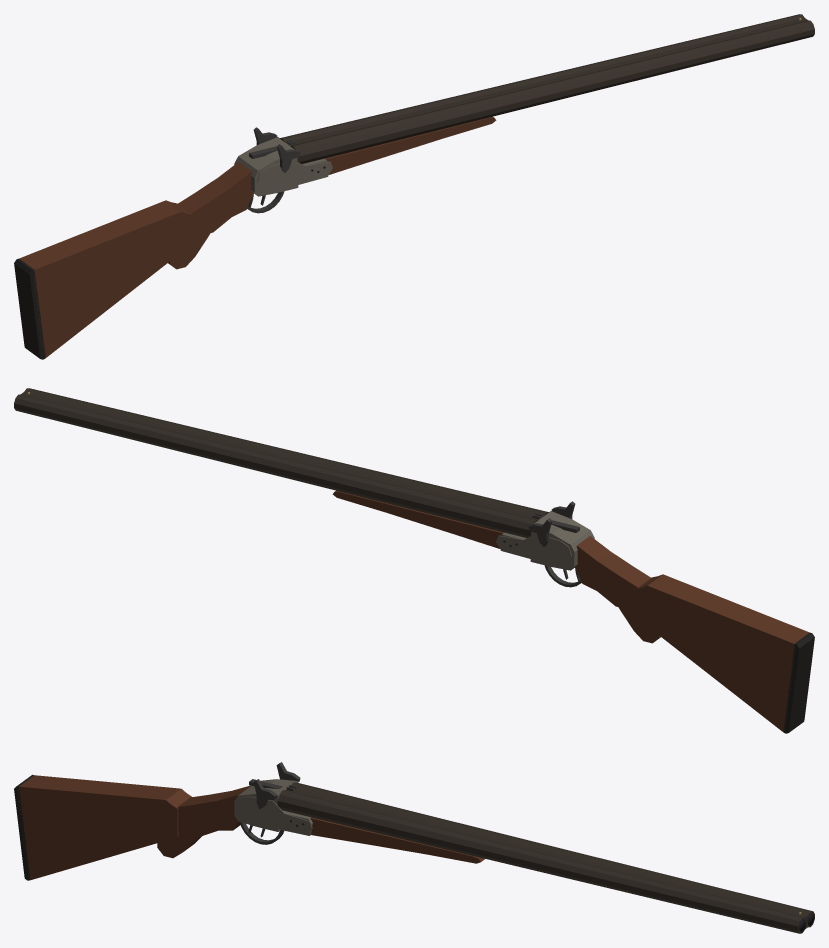
Rendered from colt_1878_shotgun_reference_sightfix.fbx.
3 views of the same model, one above another, from view 1: azimuth 30°, elevation 25°; view 2: azimuth 150°, elevation 25°; view 3: azimuth 330°, elevation 25° (orthographic).
Visible parts, largest first — view 1: barrels, stock_butt, stock_wrist, forend, butt_plate, lock_plate_r, action_body; view 2: barrels, stock_butt, stock_wrist, forend, butt_plate, lock_plate_l, action_body; view 3: barrels, stock_butt, stock_wrist, forend, lock_plate_r, action_body, pistol_grip, butt_plate, hammer_r.
Part boxes in pixels (x1,y1,x2,y2): barrels: [280, 14, 814, 163]; stock_butt: [19, 200, 192, 357]; stock_wrist: [178, 162, 253, 235]; forend: [324, 116, 496, 174]; butt_plate: [14, 258, 45, 359]; lock_plate_r: [257, 159, 332, 189]; action_body: [234, 137, 298, 196]; barrels: [14, 388, 548, 537]; stock_butt: [636, 574, 809, 731]; stock_wrist: [575, 536, 650, 609]; forend: [332, 490, 504, 548]; butt_plate: [783, 632, 814, 733]; lock_plate_l: [496, 533, 571, 563]; action_body: [530, 511, 594, 570]; barrels: [277, 782, 814, 933]; stock_butt: [17, 775, 191, 880]; stock_wrist: [177, 785, 251, 836]; forend: [310, 817, 484, 863]; lock_plate_r: [236, 796, 312, 833]; action_body: [234, 779, 298, 831]; pistol_grip: [157, 830, 201, 858]; butt_plate: [14, 774, 34, 880]; hammer_r: [253, 779, 277, 809].
Size of the model in its own units: 1.22 by 0.2384 by 0.069.
